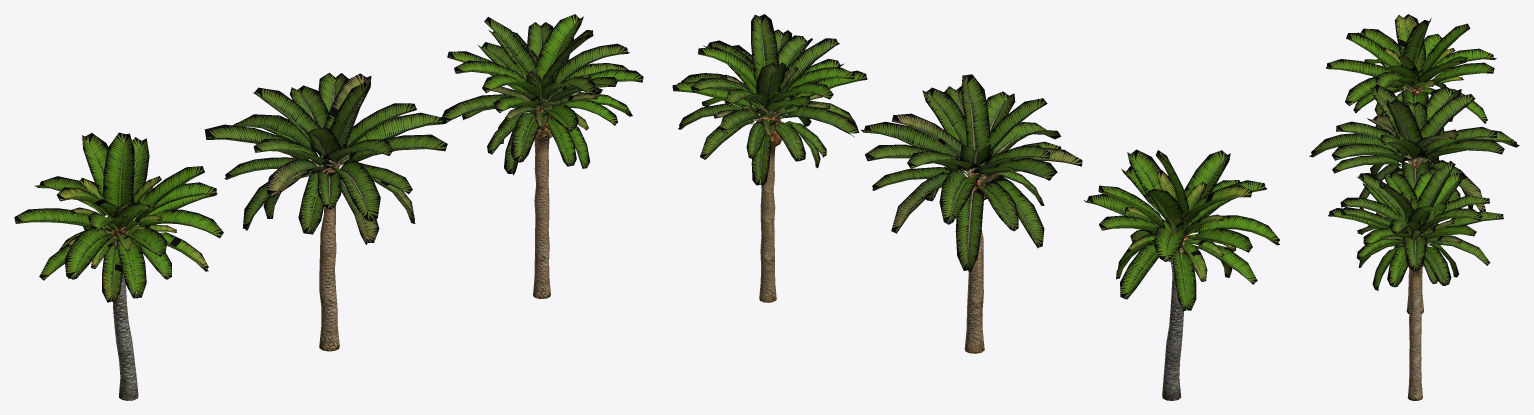
Rendered from coconut-tree.glb.
3 renders of one model, left to right at view 1: azimuth 30°, elevation 25°; view 2: azimuth 150°, elevation 25°; view 3: azimuth 270°, elevation 25°, orthographic. The views are drawn at different scales.
Parts seen in each view (by area): view 1: Palm02_a_Palm02_a_0, Palm02_b_Palm02_b_0, Palm02_c_Palm02_a_0, Palm02_c_Palm02_b_0; view 2: Palm02_a_Palm02_a_0, Palm02_b_Palm02_b_0, Palm02_c_Palm02_a_0, Palm02_c_Palm02_b_0; view 3: Palm02_a_Palm02_a_0, Palm02_c_Palm02_a_0, Palm02_b_Palm02_b_0, Palm02_c_Palm02_b_0.
Part boxes in pixels (x1,y1,x2,y2): Palm02_a_Palm02_a_0: (204, 72, 447, 351); Palm02_b_Palm02_b_0: (14, 132, 223, 400); Palm02_c_Palm02_a_0: (442, 17, 629, 298); Palm02_c_Palm02_b_0: (447, 14, 643, 169); Palm02_a_Palm02_a_0: (861, 74, 1082, 353); Palm02_b_Palm02_b_0: (1084, 149, 1279, 400); Palm02_c_Palm02_a_0: (677, 14, 859, 302); Palm02_c_Palm02_b_0: (672, 45, 867, 126); Palm02_a_Palm02_a_0: (1309, 84, 1519, 313); Palm02_c_Palm02_a_0: (1340, 161, 1503, 400); Palm02_b_Palm02_b_0: (1326, 14, 1496, 163); Palm02_c_Palm02_b_0: (1328, 171, 1476, 291).
Bounding box in the file's own units: 1956 × 839 × 712.
2 materials, 2 textured.
